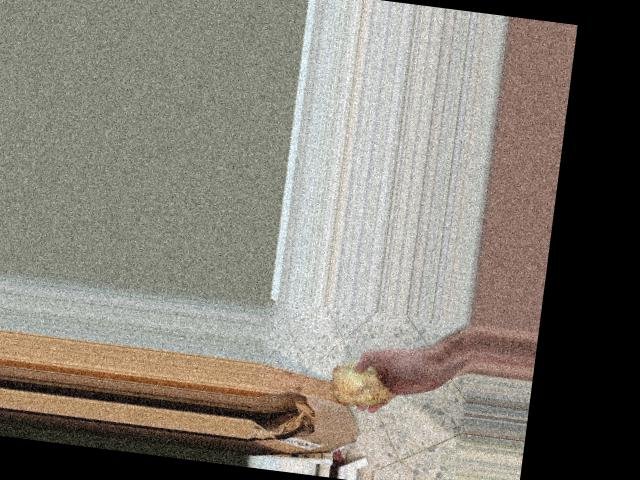onion: (325, 354, 400, 412)
